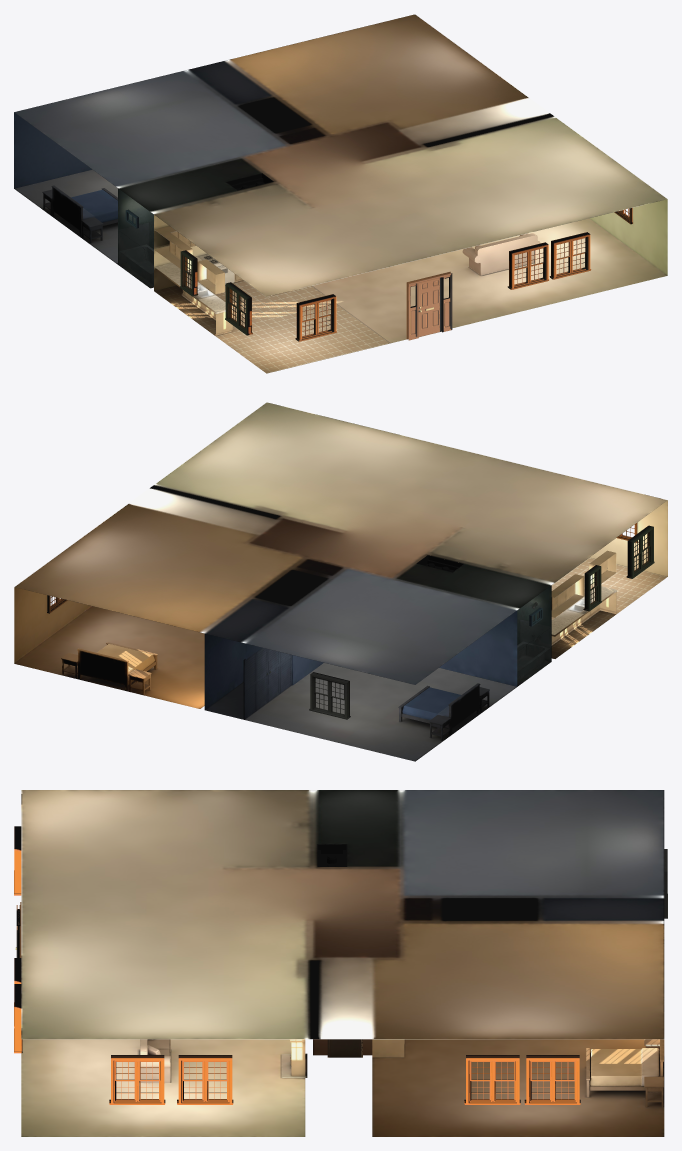
File: LightingHouse_v082.dae
3 renders of one model, top to bottom at view 1: azimuth 30°, elevation 25°; view 2: azimuth 150°, elevation 25°; view 3: azimuth 270°, elevation 25°, orthographic. The views are drawn at different scales.
Parts seen in each view (by area): view 1: Int_Ceiling, Floor, Walls, B1, Kitchen_cabinets, bath, DR_Window, LR_Window2, LR_Window1, KI_Window2, KI_Window1; view 2: Int_Ceiling, Floor, B1, Mesh_Object, bath, Kitchen_cabinets, Walls, B1_Window, KI_Window2, KI_Window1; view 3: Int_Ceiling, Floor, Mesh_Object, Walls, LR_Window4, B2_Window1, LR_Window3, B2_Window2, bath, LR_Window2, DR_Window.
Boxes of the visible parts, <box> form: Int_Ceiling: <box>14,14,667,296</box>; Floor: <box>14,169,667,373</box>; Walls: <box>154,199,667,340</box>; B1: <box>14,112,117,243</box>; Kitchen_cabinets: <box>154,226,243,335</box>; bath: <box>118,173,273,288</box>; DR_Window: <box>295,294,336,341</box>; LR_Window2: <box>549,232,591,279</box>; LR_Window1: <box>507,242,548,289</box>; KI_Window2: <box>225,282,252,335</box>; KI_Window1: <box>180,250,198,296</box>; Int_Ceiling: <box>14,402,667,684</box>; Floor: <box>14,557,667,761</box>; B1: <box>204,611,517,740</box>; Mesh_Object: <box>14,587,157,694</box>; bath: <box>416,555,551,685</box>; Kitchen_cabinets: <box>551,550,616,645</box>; Walls: <box>590,500,667,576</box>; B1_Window: <box>309,672,350,719</box>; KI_Window2: <box>626,525,654,578</box>; KI_Window1: <box>583,565,601,611</box>; Int_Ceiling: <box>21,790,664,1039</box>; Floor: <box>21,1039,664,1136</box>; Mesh_Object: <box>372,1039,663,1107</box>; Walls: <box>15,902,362,1082</box>; LR_Window4: <box>177,1055,233,1104</box>; B2_Window1: <box>464,1055,520,1104</box>; LR_Window3: <box>109,1055,165,1104</box>; B2_Window2: <box>524,1055,580,1104</box>; bath: <box>317,844,347,866</box>; LR_Window2: <box>14,984,22,1053</box>; DR_Window: <box>14,826,21,895</box>.
Bounding box in the file's own units: 1566 × 281 × 1706.
